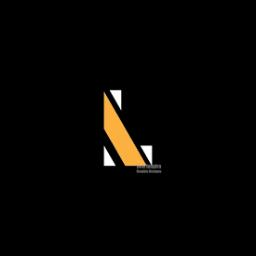l: (96, 86, 158, 168)
